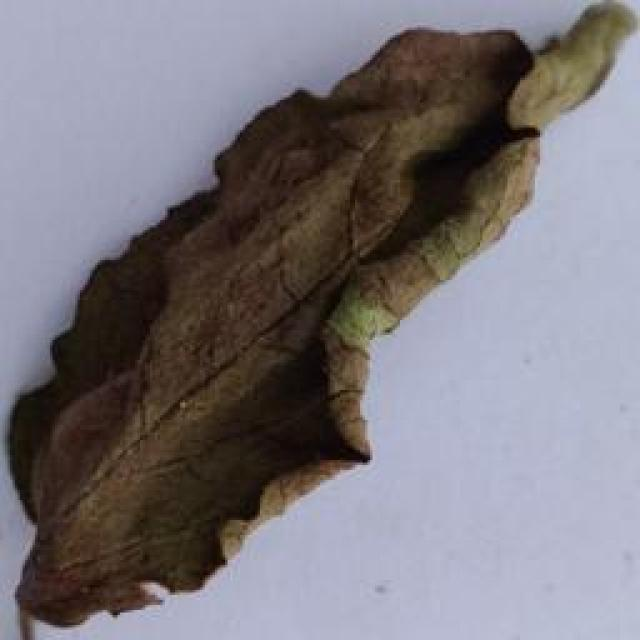Potato_Late_Blight: (10, 7, 628, 635)
